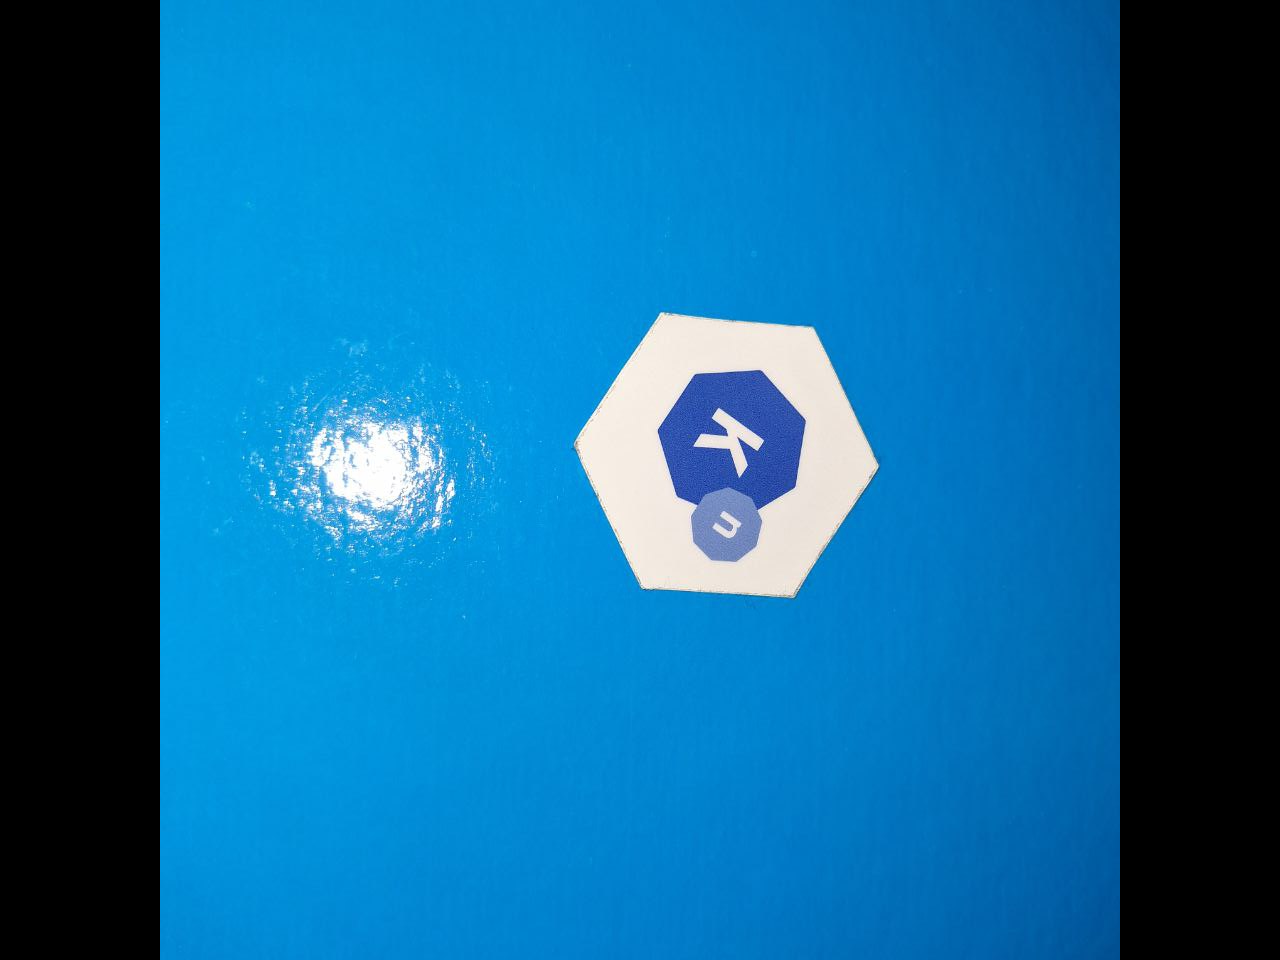knative: (656, 368, 811, 563)
